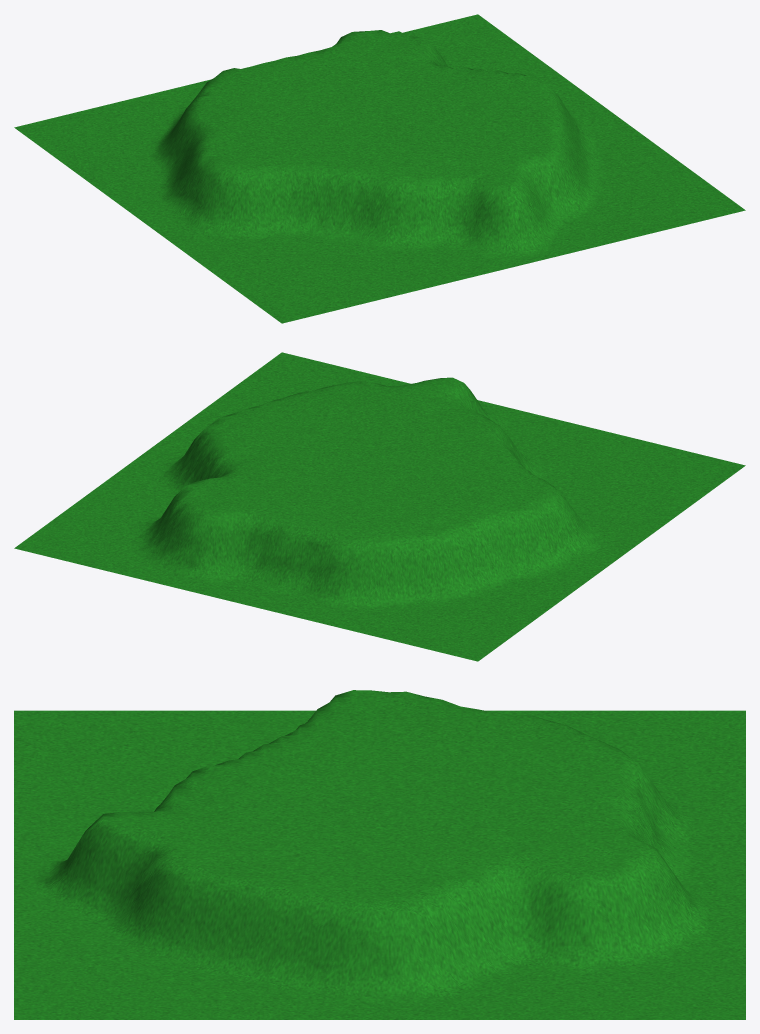
File: Nivel2.fbx
The picture shows the model from 3 angles, top to bottom: view 1: azimuth 30°, elevation 25°; view 2: azimuth 150°, elevation 25°; view 3: azimuth 270°, elevation 25°; orthographic projection. The views are drawn at different scales.
Visible parts, largest first — view 1: Plano; view 2: Plano; view 3: Plano.
Boxes of the visible parts, box(x1,y1,x2,y2) form: Plano: box(14, 14, 745, 323); Plano: box(14, 352, 745, 661); Plano: box(14, 690, 745, 1019).
Bounding box in the file's own units: 50 × 5 × 50.
